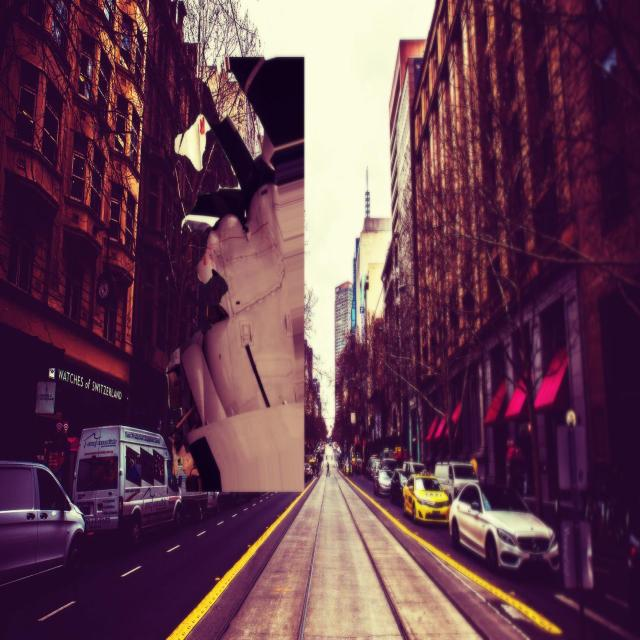airplane: (165, 54, 306, 495)
